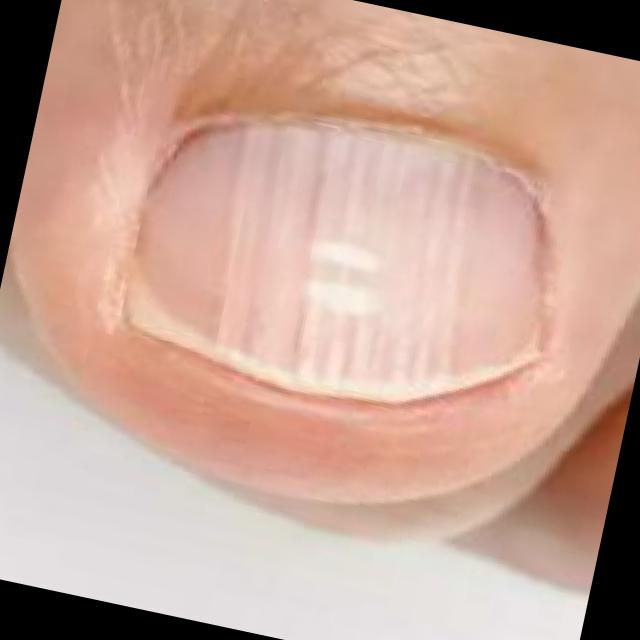Nail: (126, 127, 551, 403)
